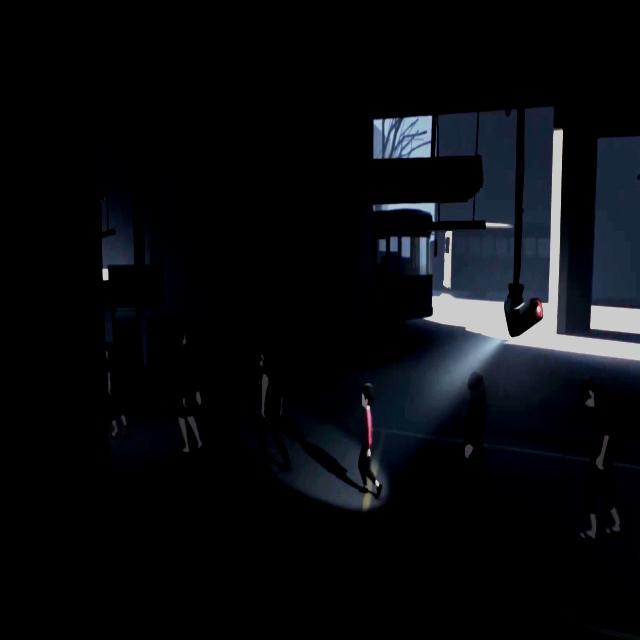boy: (578, 378, 622, 542), (256, 351, 290, 474), (357, 384, 381, 496)
zombie: (455, 374, 497, 515), (176, 329, 202, 455), (105, 343, 128, 439)
